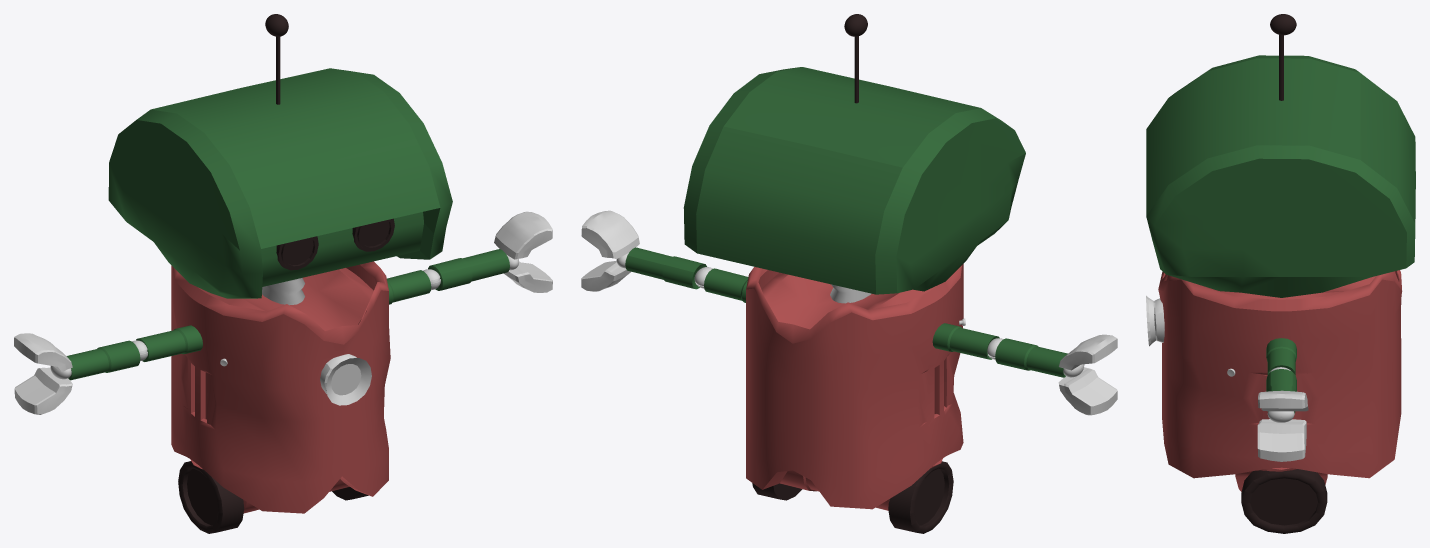
The model's file is S-4MUnity2.fbx.
The picture shows the model from 3 angles, left to right: view 1: azimuth 30°, elevation 25°; view 2: azimuth 150°, elevation 25°; view 3: azimuth 270°, elevation 25°; orthographic projection. The views are drawn at different scales.
Parts seen in each view (by area): view 1: polySurface2, Chest, Wheels_2, Scanner, RightArm5, RightHand_4, RightHand_6, RightArm8, RightArm9, RightHand_5, Eyes1, RightArm4 (+3 smaller); view 2: polySurface2, Chest, Wheels_2, RightHand_4, RightArm5, RightHand_6, RightArm8, RightArm9, RightHand_5, RightArm4, RightHand_3; view 3: polySurface2, Chest, Wheels_1, RightHand_3, RightHand_4, RightArm4, Scanner, RightArm5, AntinaBall, Hips2, AntenaL.
Boxes of the visible parts, x1,y1,x2,y2 form: polySurface2: (108, 68, 452, 298); Chest: (171, 261, 390, 513); Wheels_2: (178, 461, 244, 533); Scanner: (320, 354, 371, 405); RightArm5: (428, 249, 509, 290); RightHand_4: (494, 211, 552, 259); RightHand_6: (14, 367, 72, 414); RightArm8: (67, 340, 140, 380); RightArm9: (136, 325, 202, 361); RightHand_5: (14, 333, 72, 371); Eyes1: (276, 236, 318, 270); RightArm4: (387, 270, 431, 304); polySurface2: (683, 67, 1025, 294); Chest: (746, 264, 963, 509); Wheels_2: (888, 461, 953, 533); RightHand_4: (581, 210, 639, 258); RightArm5: (625, 247, 706, 289); RightHand_6: (1058, 367, 1117, 415); RightArm8: (995, 338, 1067, 377); RightArm9: (932, 323, 999, 359); RightHand_5: (1059, 334, 1117, 370); RightArm4: (704, 268, 748, 302); RightHand_3: (581, 260, 631, 291); polySurface2: (1146, 55, 1415, 297); Chest: (1158, 270, 1402, 478); Wheels_1: (1241, 469, 1327, 533); RightHand_3: (1257, 419, 1306, 461); RightHand_4: (1258, 390, 1308, 411); RightArm4: (1266, 338, 1296, 374); Scanner: (1146, 295, 1164, 346); RightArm5: (1266, 369, 1296, 413); AntinaBall: (1270, 14, 1296, 35); Hips2: (1235, 467, 1327, 491); AntenaL: (1279, 35, 1283, 100).
Bounding box in the file's own units: 99.45 × 90.5 × 46.1.
